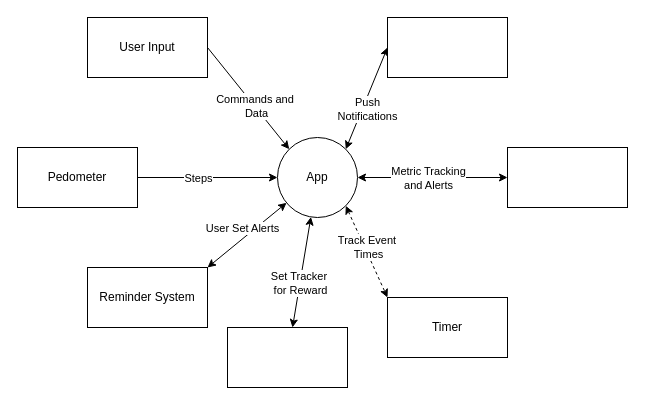
The diagram is 645 pixels wide and 405 high, and some of its shapes have lost their labels. Each missing label, with the centre of its shape:
Notification System: the point at 447,47
Preset Function Database: the point at 287,357
Rewards System: the point at 567,177
